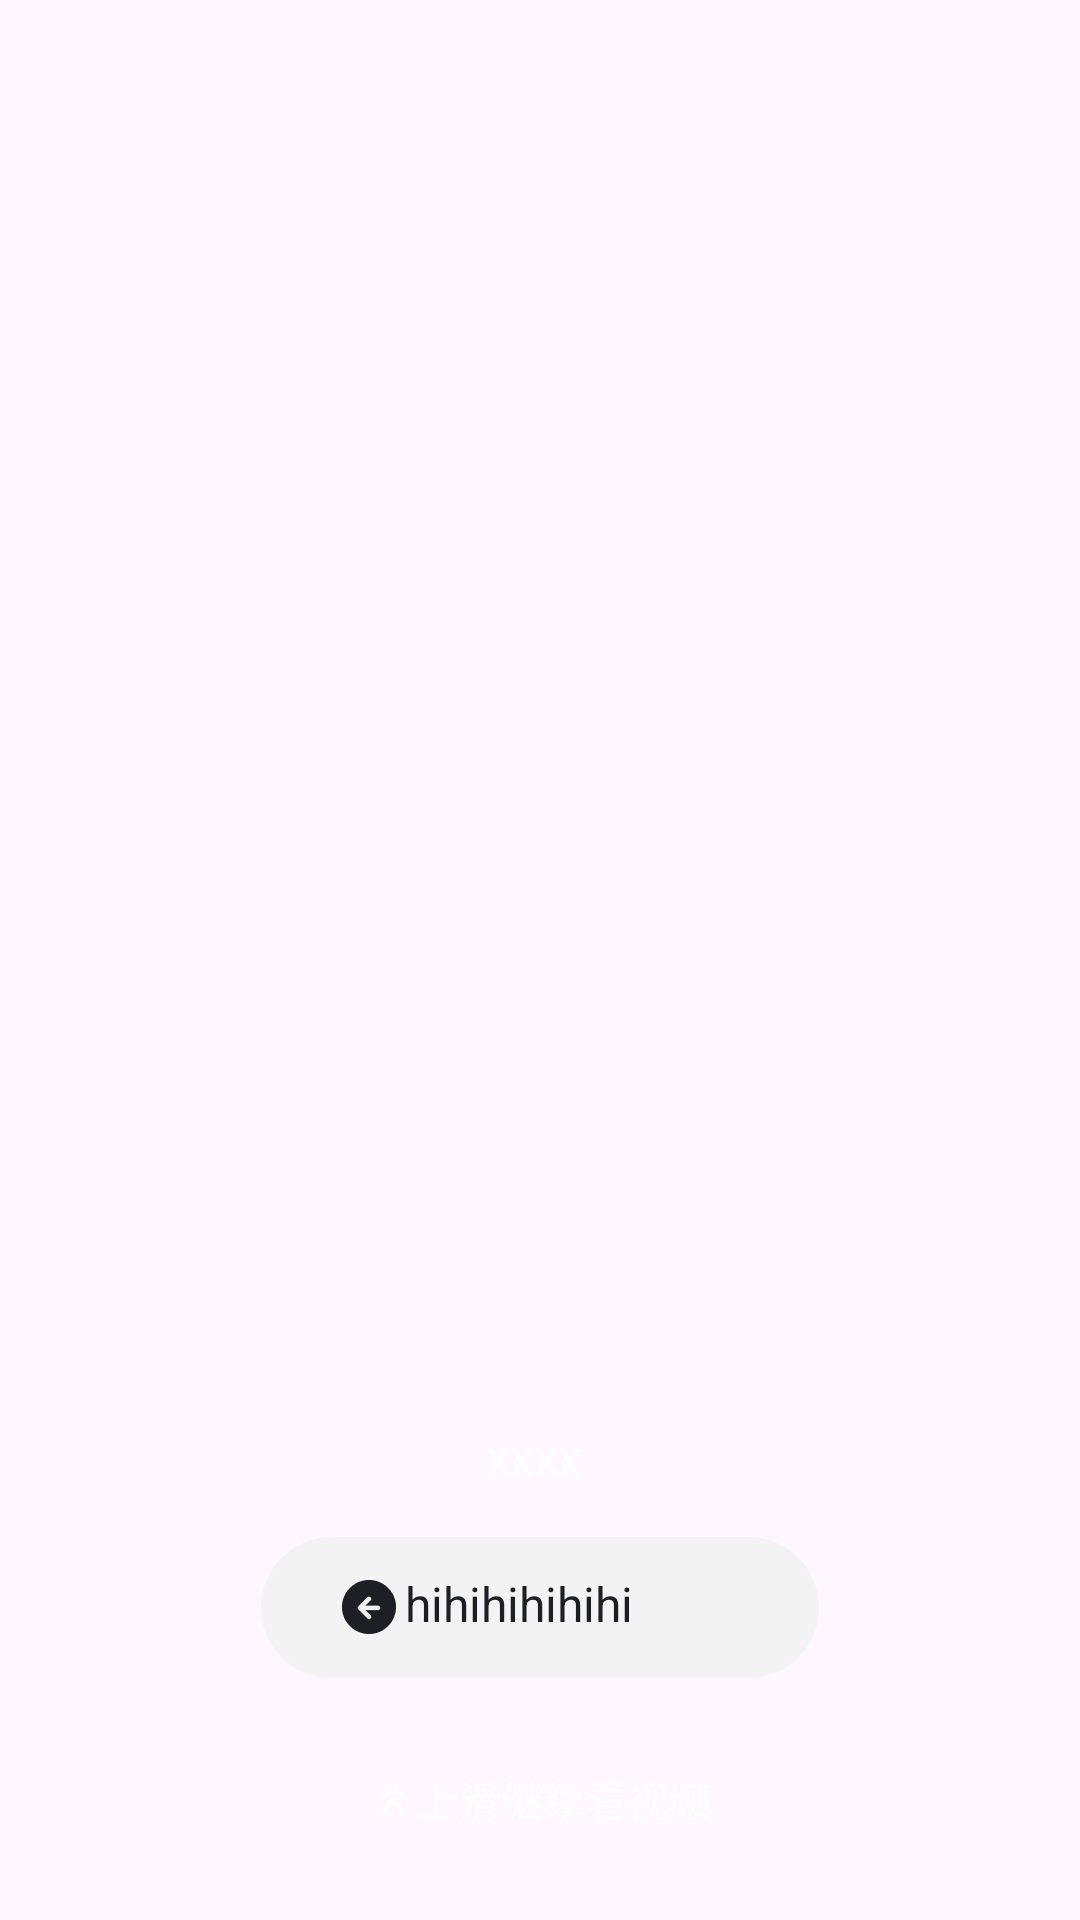

Named icons in this screenshot (1080px x 1920px) and their centers, (x,y):
left: (369,1607)
